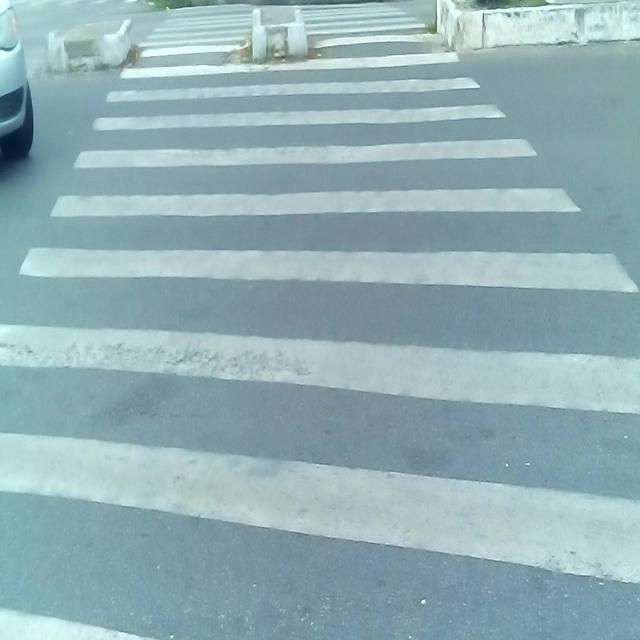crosswalk: (0, 1, 640, 640)
